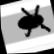not correct: (12, 0, 53, 40)
